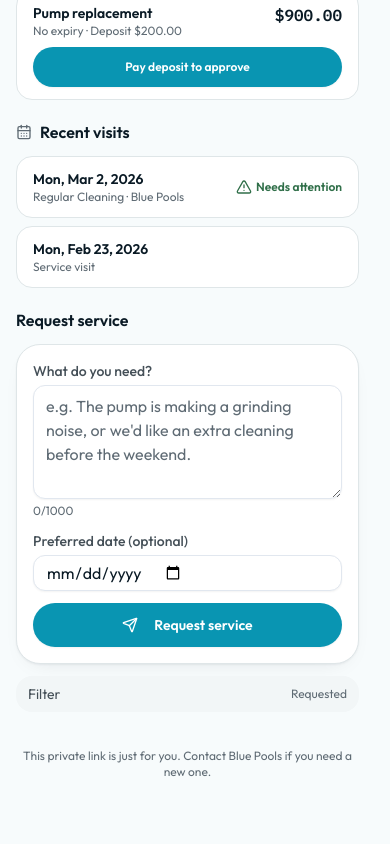
Test: CustomerPortalPage › shows server-side request errors and client validation
(page scrolled)
Click the button "Request service" at (188, 625), box [33, 603, 342, 647]
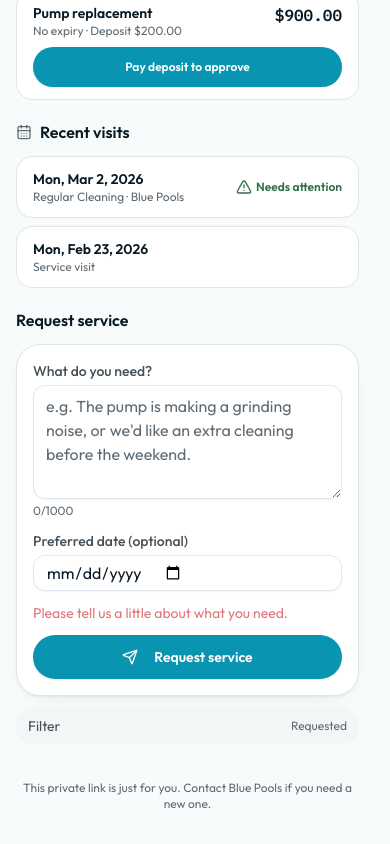
Check: the message shows "tell us a little", box [33, 604, 288, 622]
Replace the text in the text box labelled "What do you need?" with "Pump is grinding" at (188, 442), box [33, 385, 342, 499]
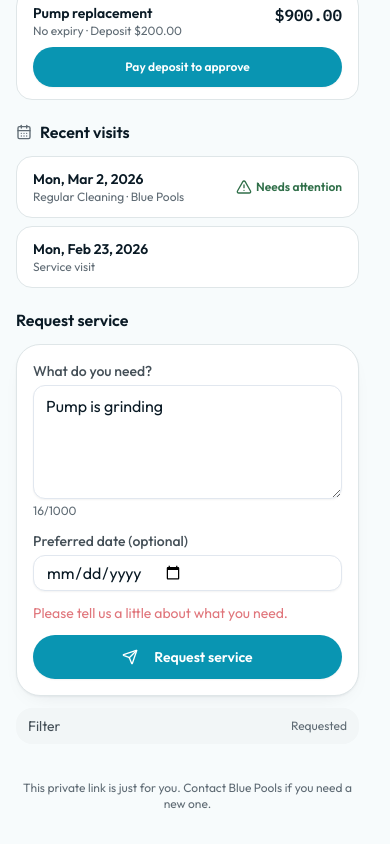
Click the button "Request service" at (188, 657), box [33, 635, 342, 679]
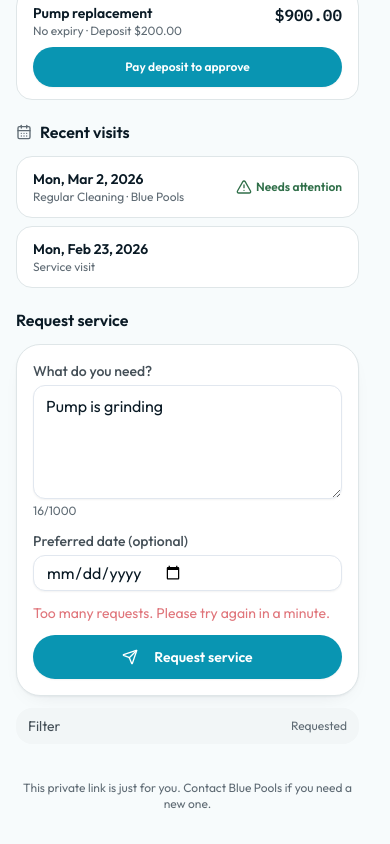
Check: the text "Too many requests. Please try again in a minute." is shown, box [33, 603, 342, 623]
